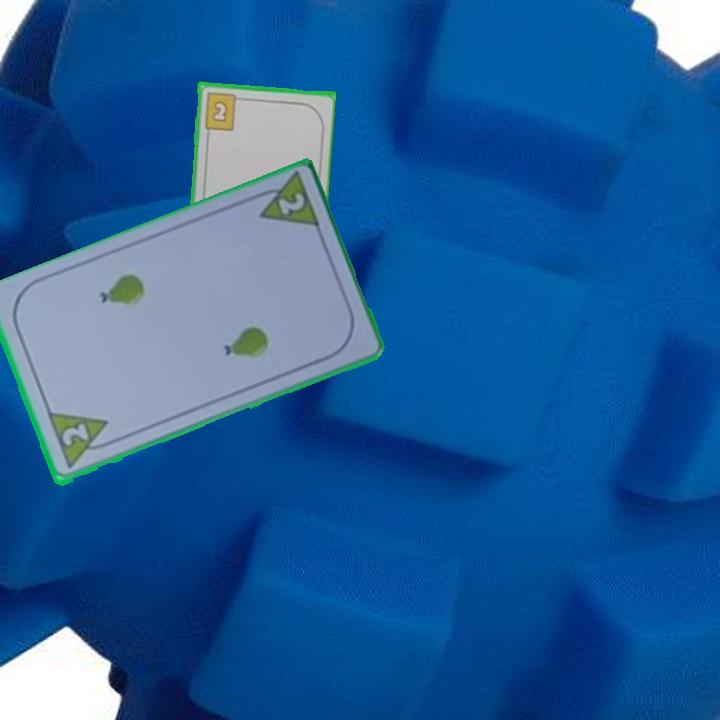2b: (201, 89, 245, 132)
2p: (273, 189, 308, 219), (58, 420, 91, 450)
